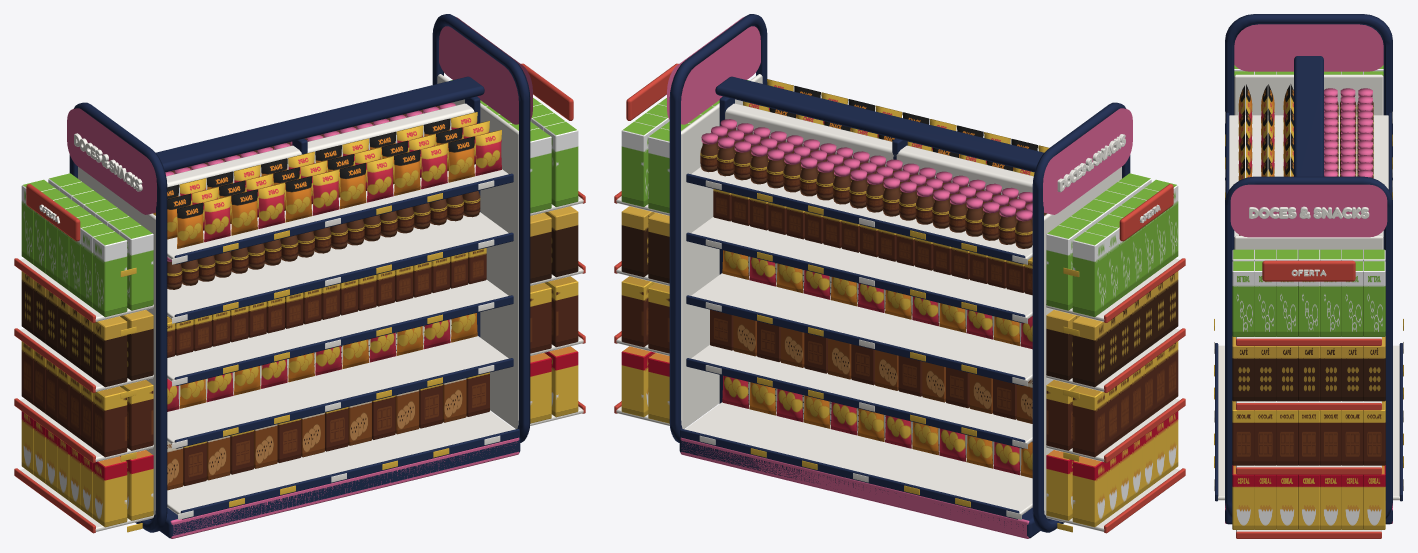
The model's file is shelf-snacks.fbx.
3 views of the same model, side by side, from view 1: azimuth 30°, elevation 25°; view 2: azimuth 150°, elevation 25°; view 3: azimuth 270°, elevation 25° (orthographic). The views are drawn at different scales.
Parts seen in each view (by area): view 1: Body, Anim Fill 3, Anim Fill 0, Anim Fill 1, Anim Fill 2; view 2: Body, Anim Fill 3, Anim Fill 0, Anim Fill 1, Anim Fill 2; view 3: Body, Anim Fill 0, Anim Fill 2, Anim Fill 3, Anim Fill 1.
Part boxes in pixels (x1=…): Body: x1=14, y1=14, x2=585, y2=538; Anim Fill 3: x1=21, y1=167, x2=230, y2=527; Anim Fill 0: x1=369, y1=80, x2=578, y2=434; Anim Fill 1: x1=270, y1=123, x2=420, y2=457; Anim Fill 2: x1=187, y1=147, x2=312, y2=474; Body: x1=614, y1=14, x2=1185, y2=538; Anim Fill 3: x1=965, y1=145, x2=1178, y2=527; Anim Fill 0: x1=621, y1=79, x2=847, y2=423; Anim Fill 1: x1=783, y1=99, x2=956, y2=448; Anim Fill 2: x1=882, y1=125, x2=1037, y2=468; Body: x1=1214, y1=14, x2=1403, y2=538; Anim Fill 0: x1=1232, y1=235, x2=1385, y2=529; Anim Fill 2: x1=1238, y1=108, x2=1373, y2=170; Anim Fill 3: x1=1234, y1=65, x2=1383, y2=133; Anim Fill 1: x1=1238, y1=145, x2=1373, y2=180.
Size of the model in its own units: 2.85 by 2.07 by 1.02.
